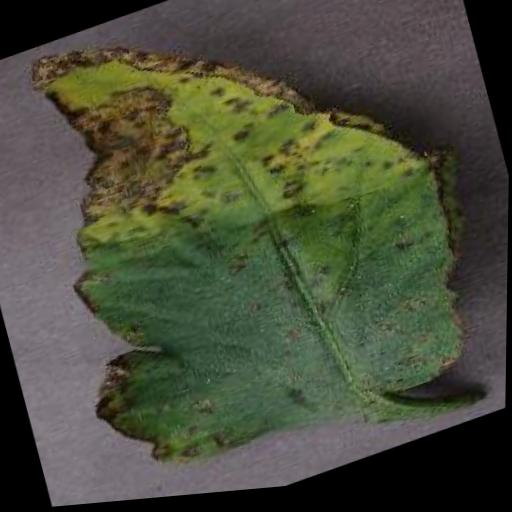Bacterial Spot: (0, 0, 507, 508)
